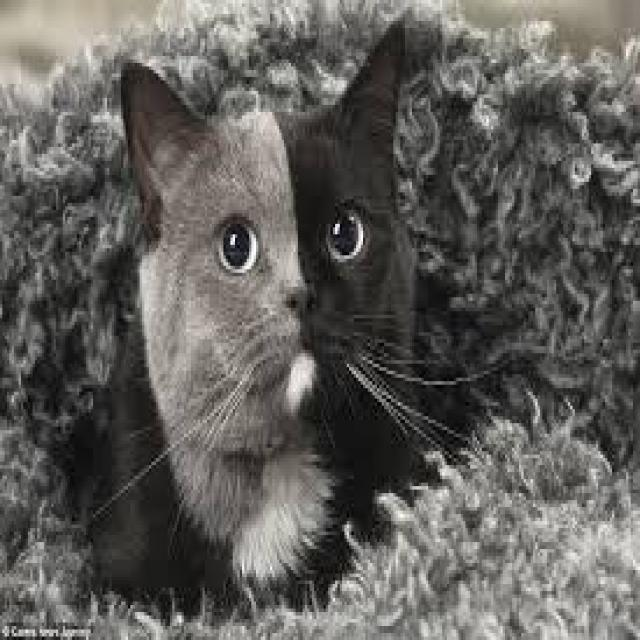Cat: (75, 16, 461, 615)
